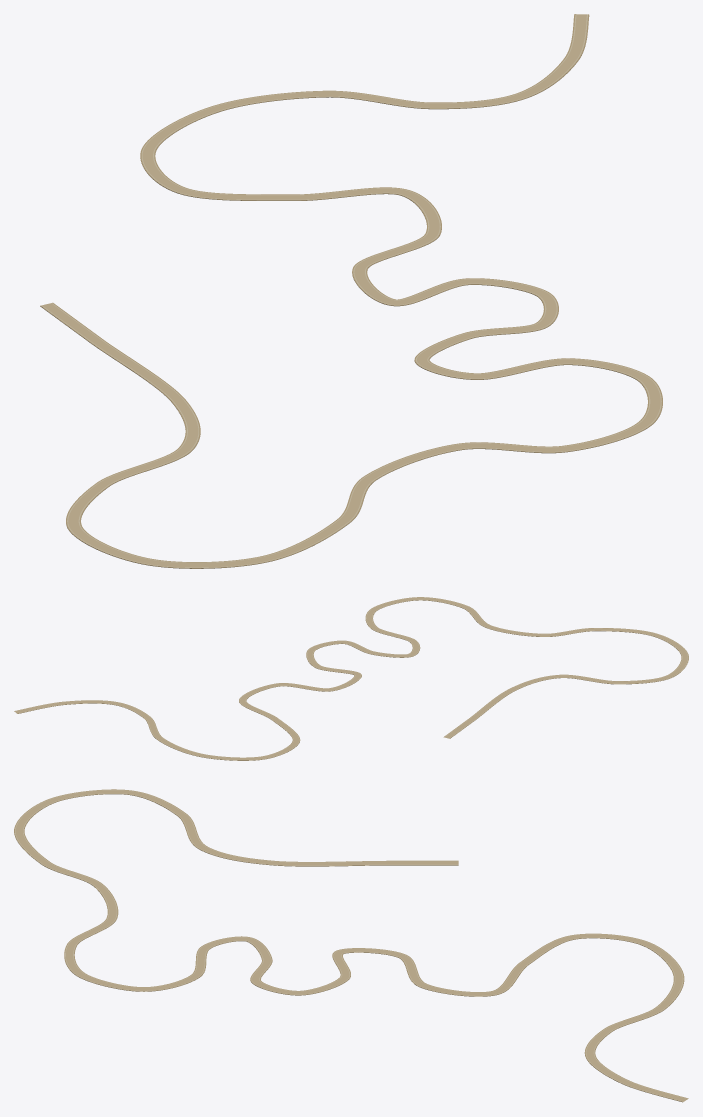
The model's file is road_stage_dust_valley.glb.
3 renders of one model, top to bottom at view 1: azimuth 30°, elevation 25°; view 2: azimuth 150°, elevation 25°; view 3: azimuth 270°, elevation 25°, orthographic. The views are drawn at different scales.
Parts seen in each view (by area): view 1: road; view 2: road; view 3: road.
Boxes of the visible parts, <box> form: road: <box>40,14,662,568</box>; road: <box>14,597,688,760</box>; road: <box>14,789,688,1102</box>.
Size of the model in its own units: 842 by 0.32 by 768.
